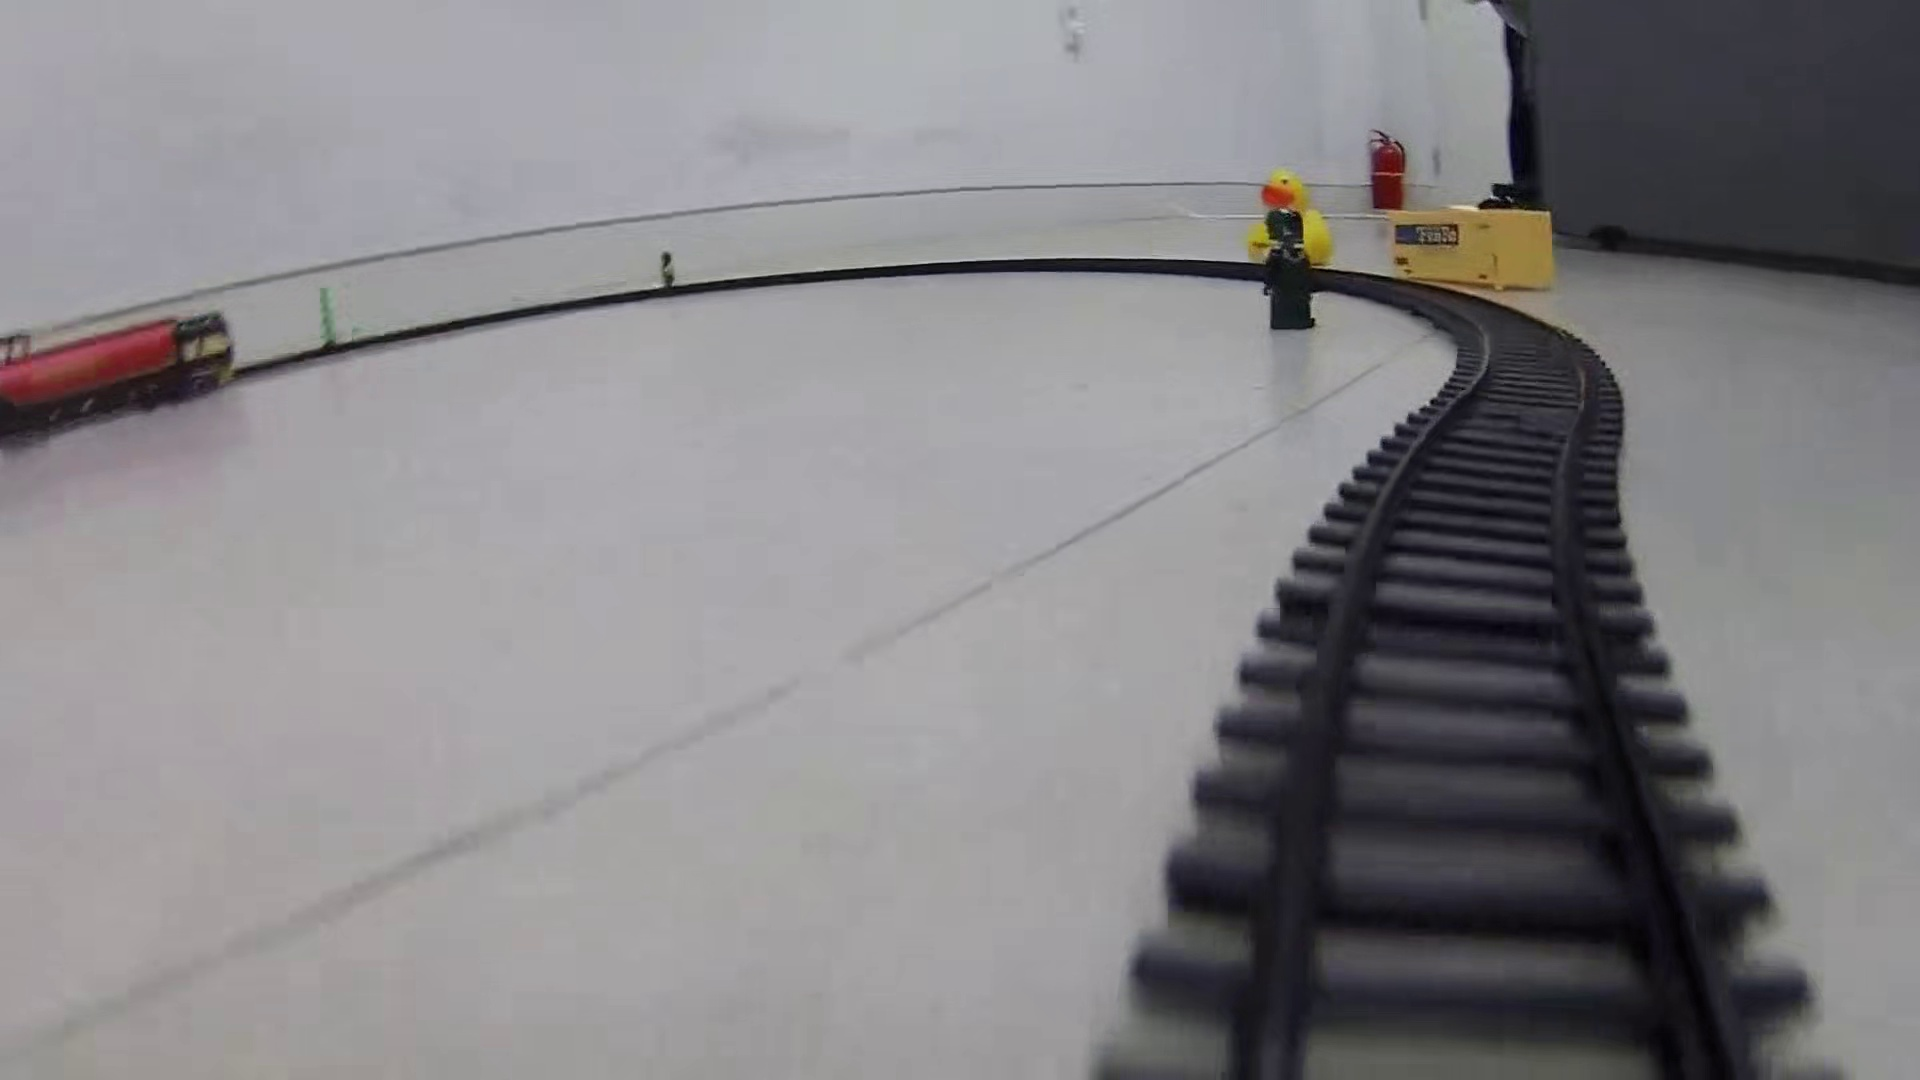people: (1259, 206, 1323, 337), (655, 249, 677, 293)
tree: (312, 284, 344, 359)
